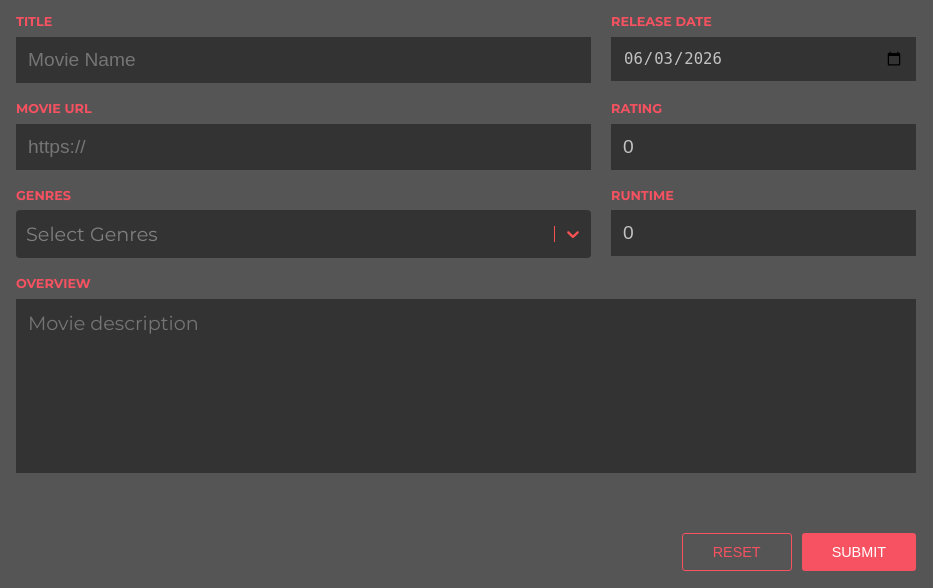
Test: MovieForm › resets form data when reset button is clicked
Type "Test Movie" into the field with placeholder "Movie Name" at (304, 60), box [16,37,591,83]
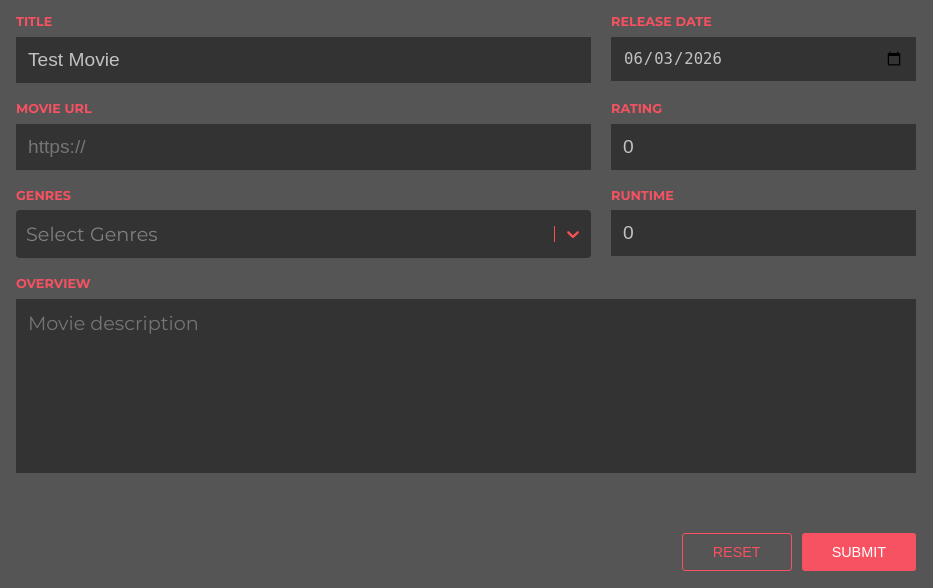
Type "https://domain.com/test-movie.jpg" into the field with placeholder "https://" at (304, 147), box [16,124,591,170]
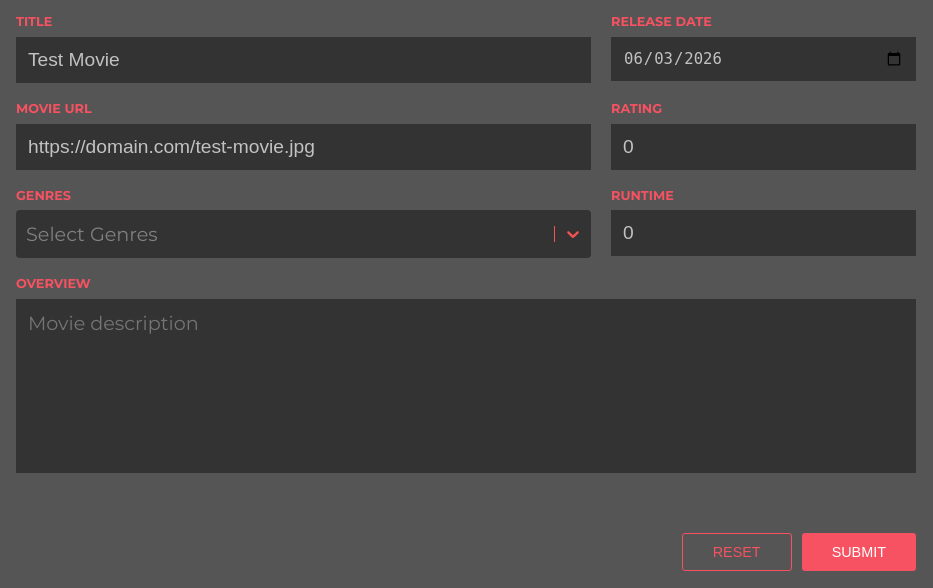
Type "This is a test movie." into the text box with placeholder "Movie description" at (466, 386), box [16,299,916,473]
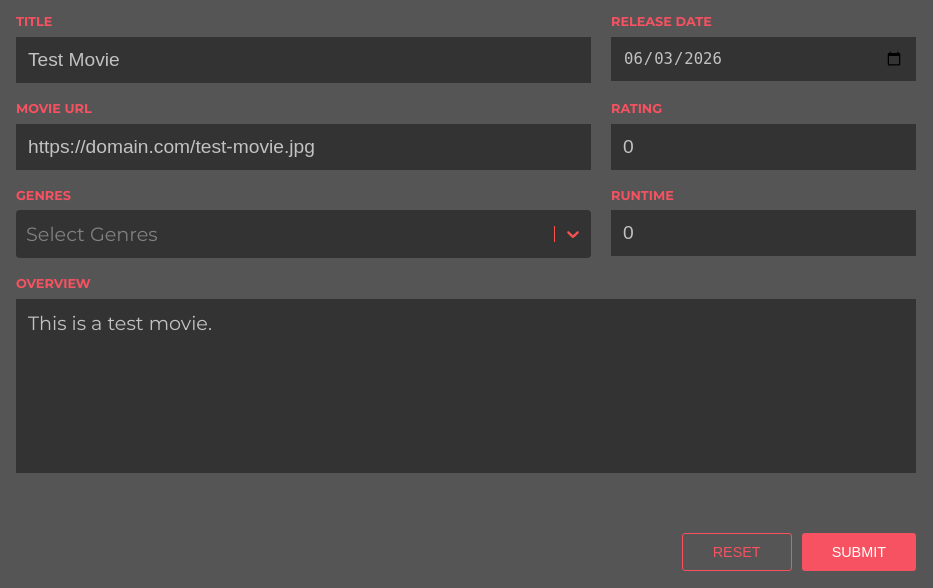
Replace the text in the number field with placeholder "Rating" with "8" at (764, 147), box [611,124,916,170]
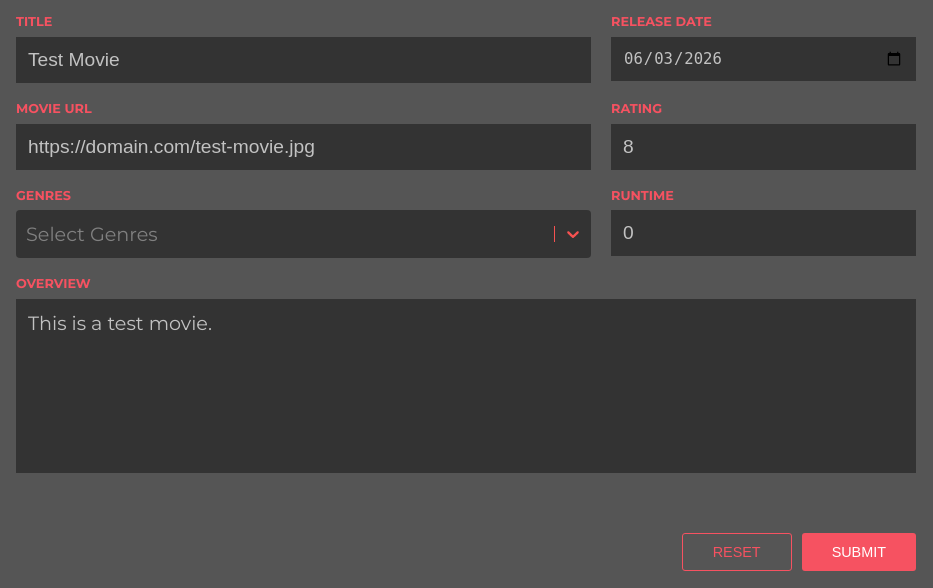
Replace the text in the number field with placeholder "Minutes" with "120" at (764, 233), box [611,210,916,256]
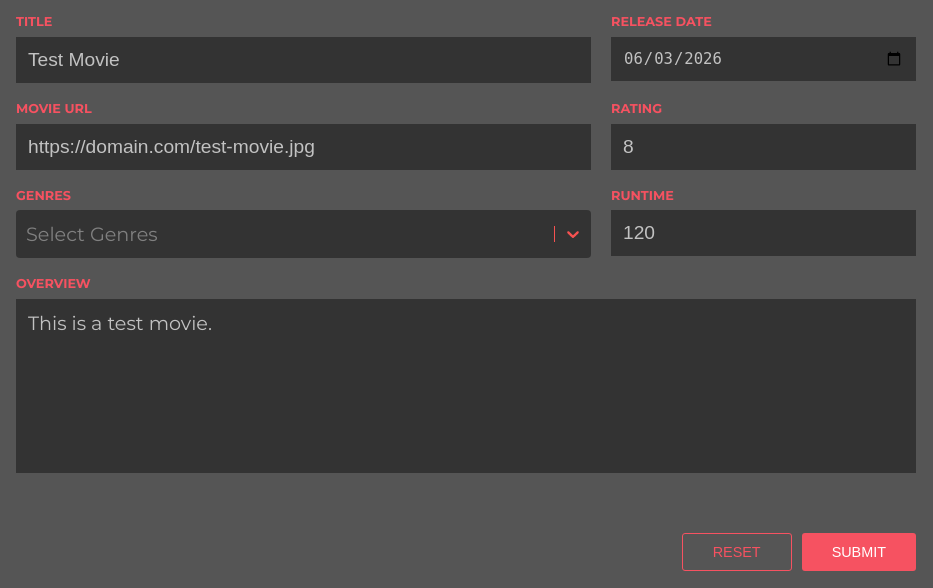
Note: Click on reset button
Click the button "Reset" at (737, 552), box [682,533,792,571]
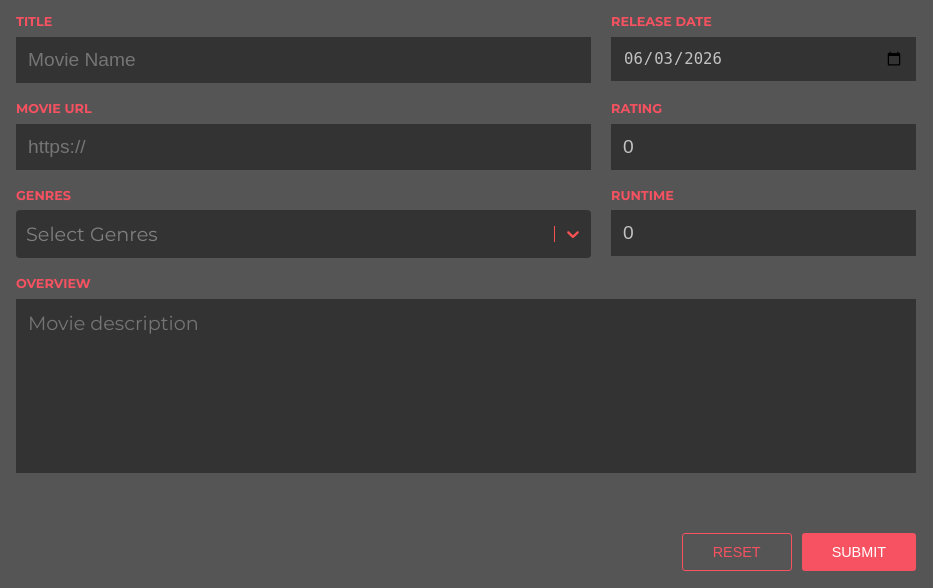
expect the field with placeholder "Movie Name" is empty: met, box [16,37,591,83]
expect the field with placeholder "https://" is empty: met, box [16,124,591,170]
expect the text box with placeholder "Movie description" is empty: met, box [16,299,916,473]
